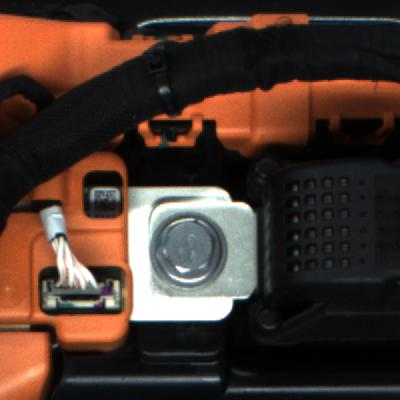nut_b: (146, 209, 230, 298)
